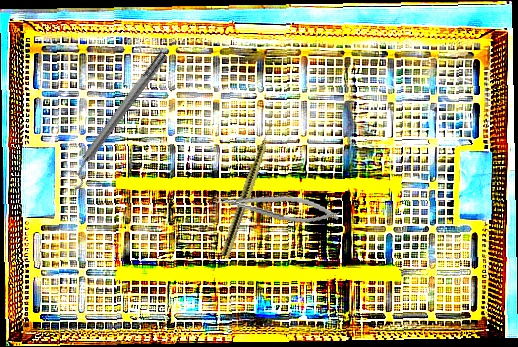Fixation Ring: (57, 46, 176, 192)
Handpiece: (220, 121, 277, 258)
Needle Holder: (211, 183, 342, 230)
